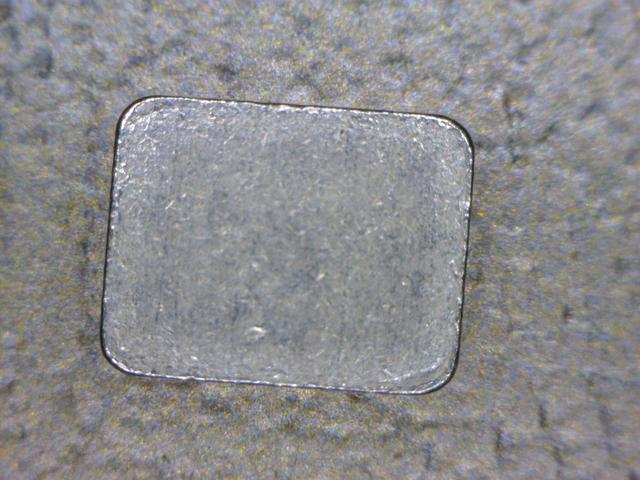ok: (91, 90, 479, 403)
